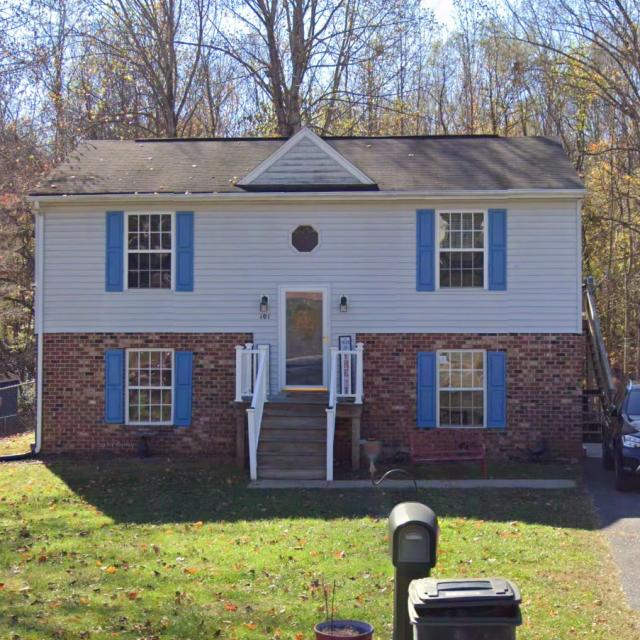House: (27, 126, 589, 467)
